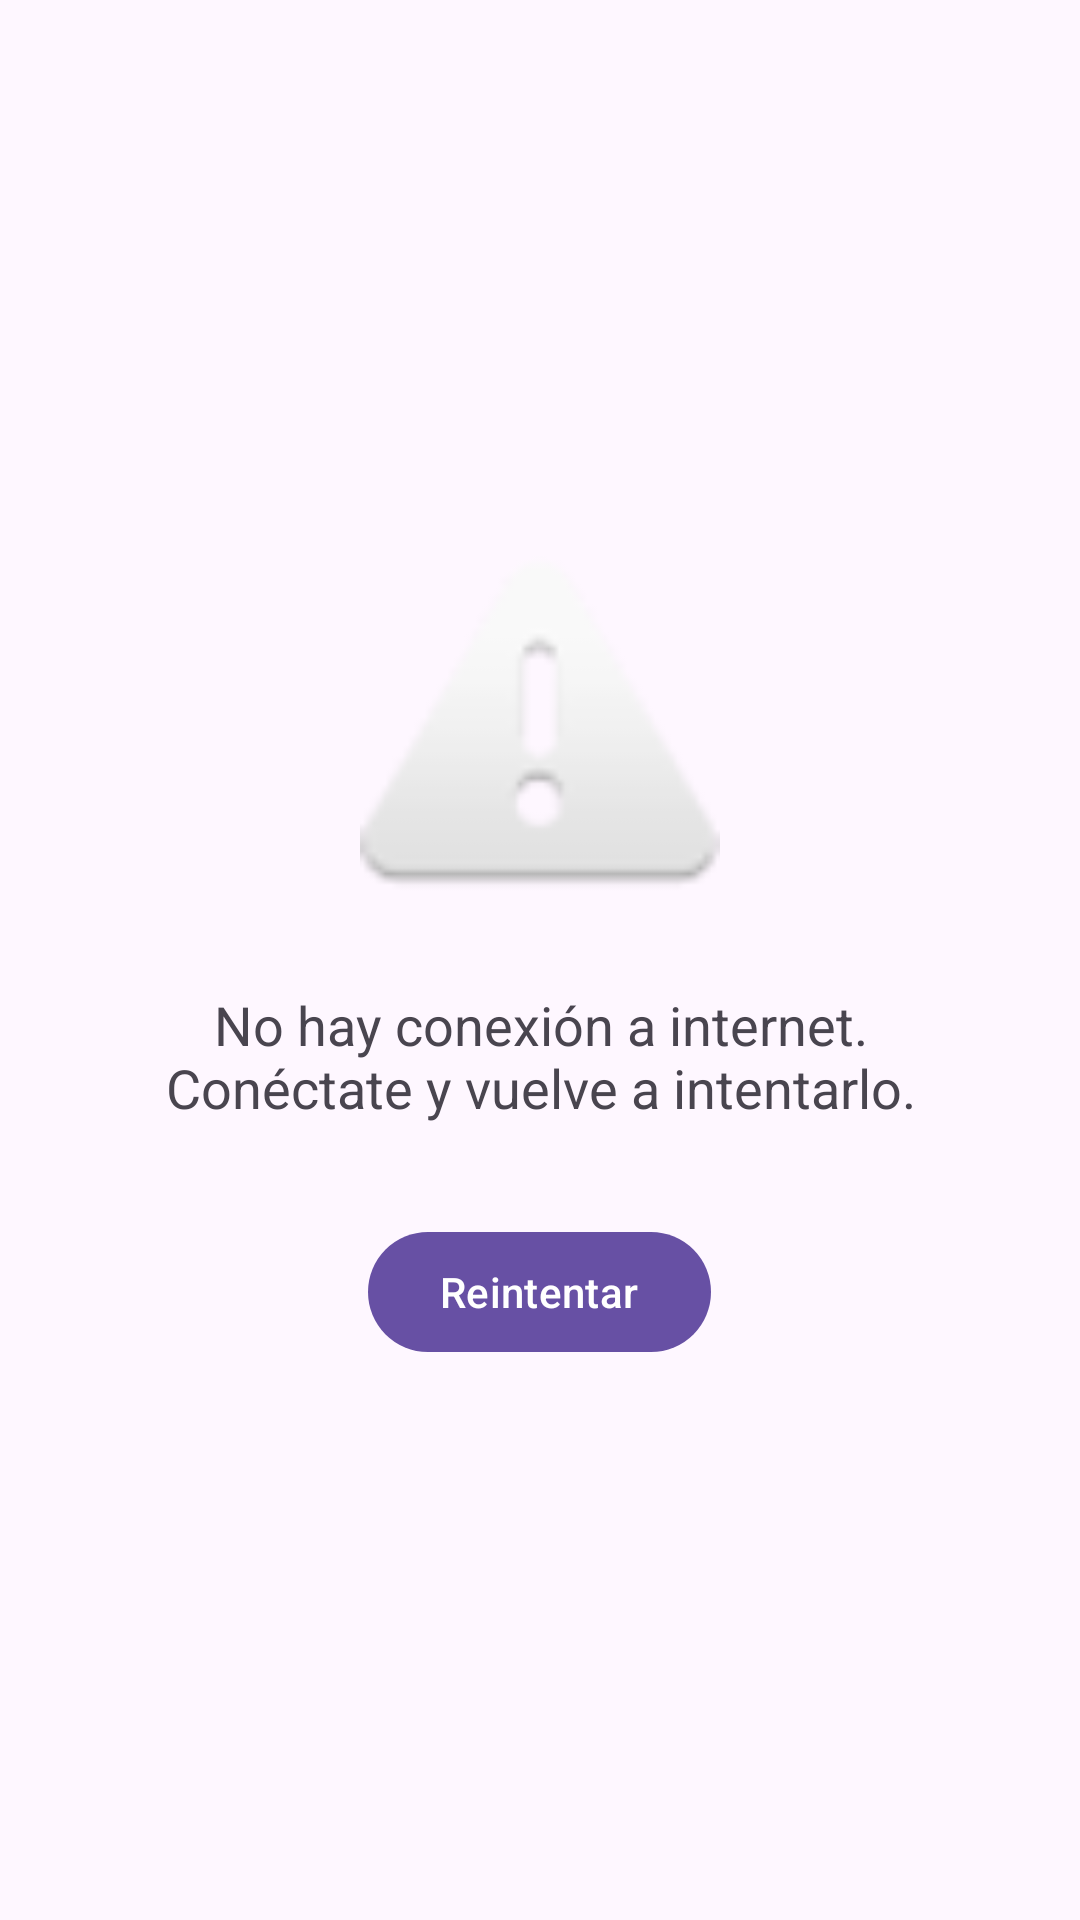

Where icons sit on this 1080 x 1920 app screen, as (x1, y1, x2, y2):
Icono de advertencia: (360, 639, 720, 882)
